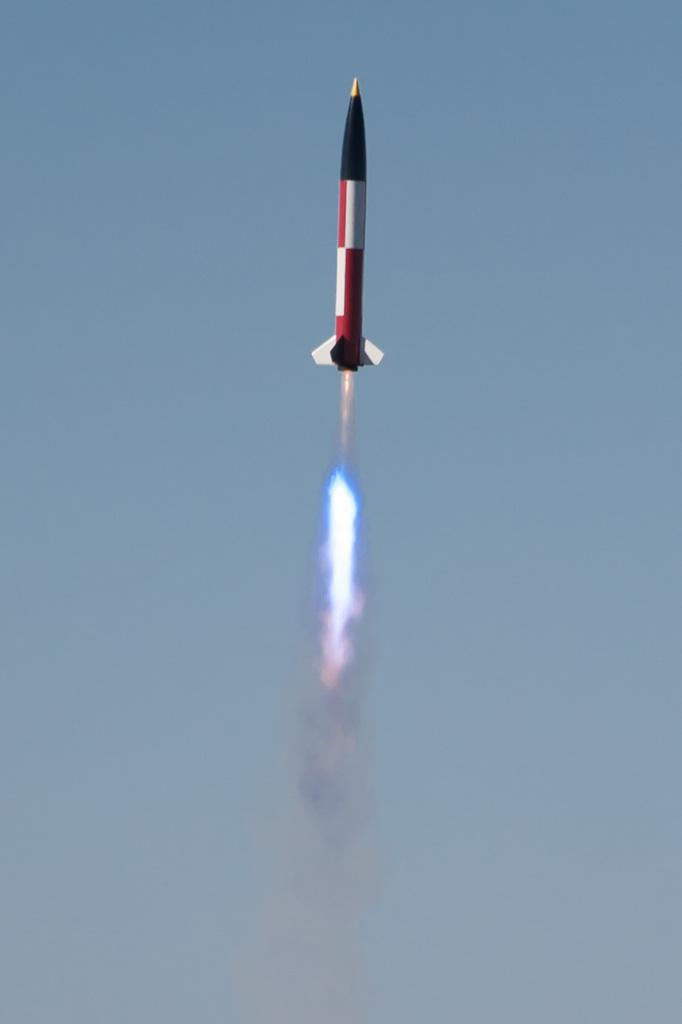Missile: (312, 62, 394, 405)
